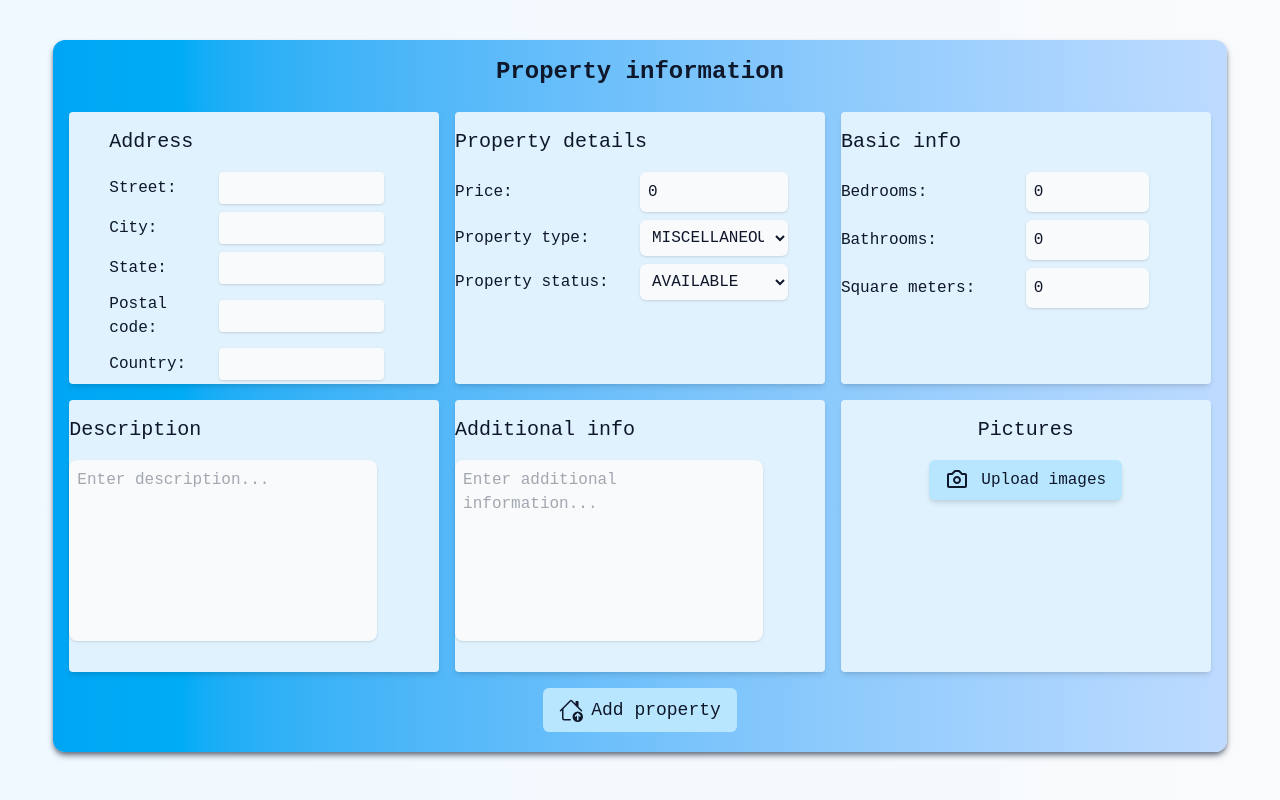
Test case: AddPropertyPage › should display error message when API returns error response
The width and height of the screenshot is (1280, 800).
Type "123 Main St" into the field labelled "Street:" at [302, 188], box [219,172,384,204]
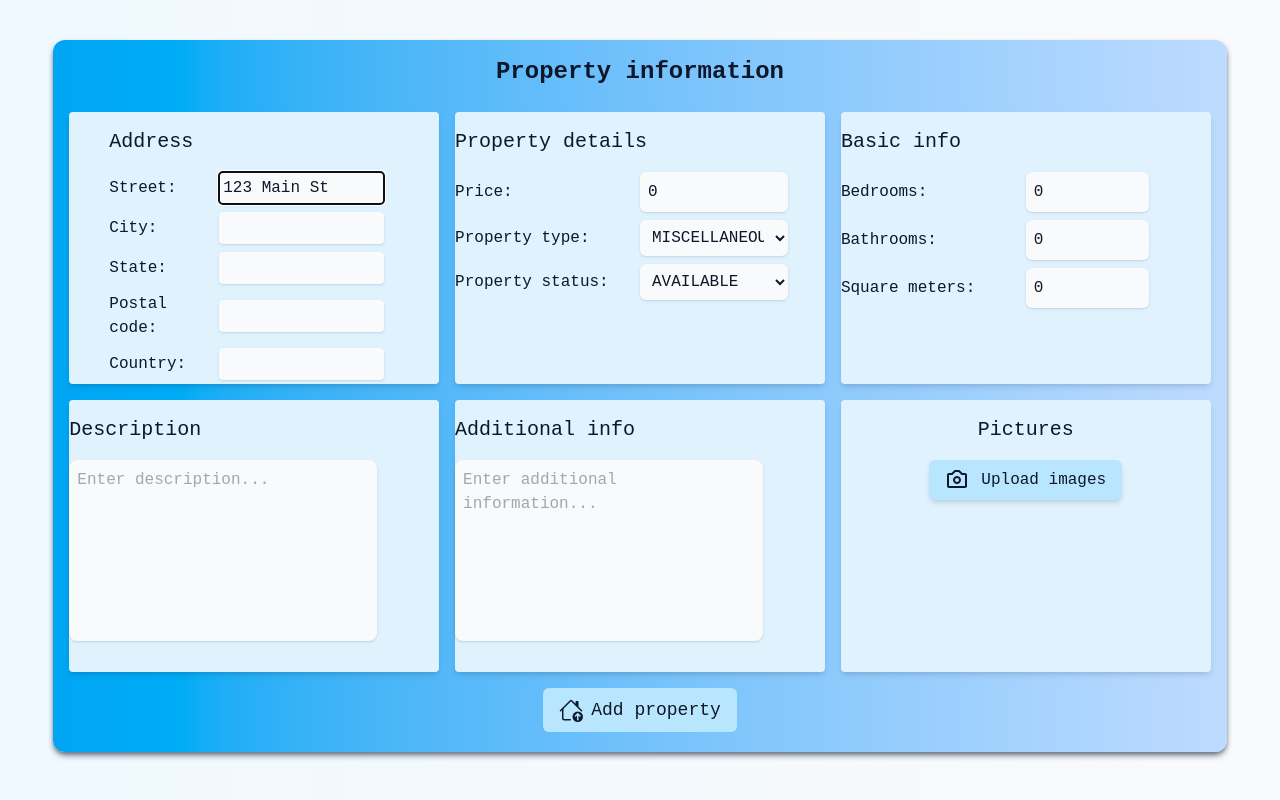
Click the button "Add property" at [640, 710], box [543,688,737,732]
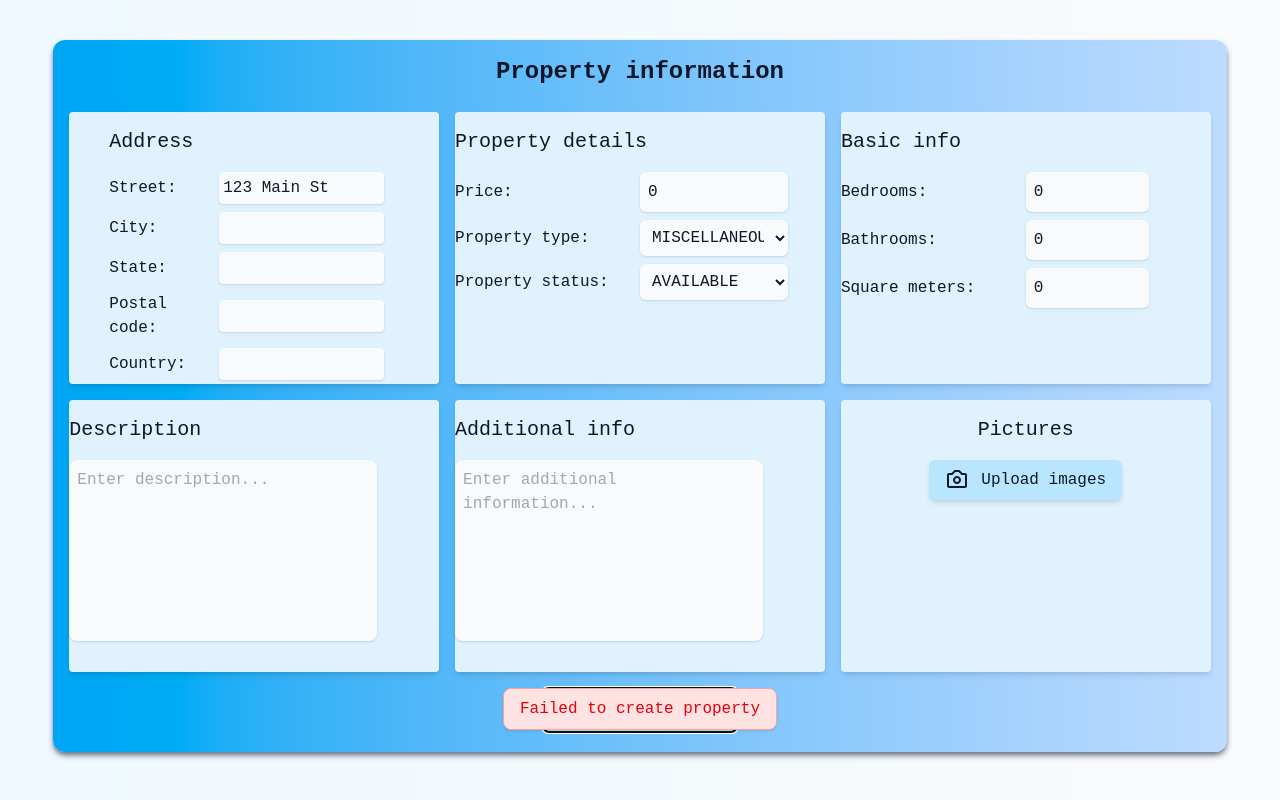
Result: the text "Failed to create property" is shown at [503,688,777,730]
